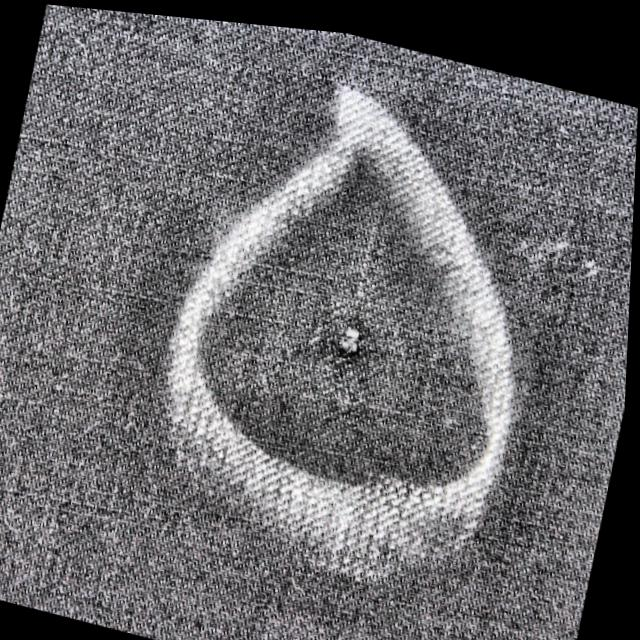Hole: (324, 298, 380, 377)
